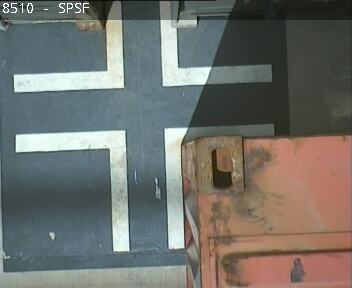groundmarker_1: (15, 123, 275, 250), (13, 1, 271, 93)
